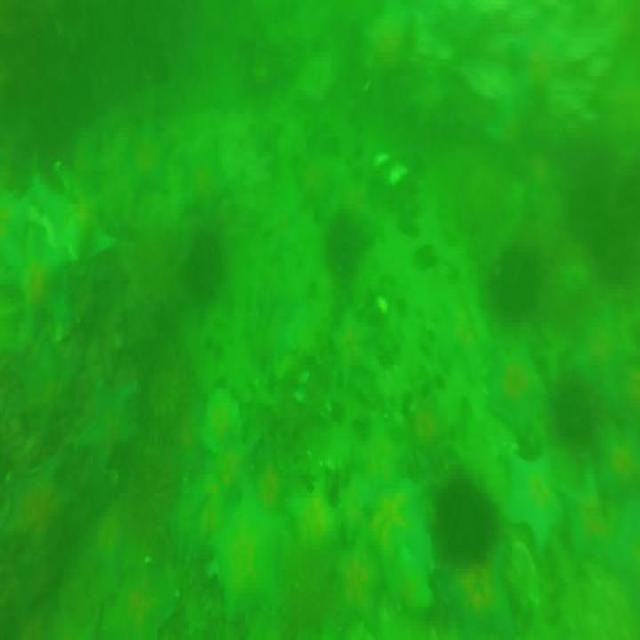echinus: (209, 485, 292, 631), (34, 148, 108, 280), (2, 214, 68, 352), (359, 466, 431, 585), (66, 368, 140, 479), (501, 444, 569, 559), (4, 455, 74, 550), (435, 480, 503, 564), (487, 336, 548, 429), (101, 572, 178, 640), (569, 474, 612, 582), (558, 378, 606, 452), (183, 226, 224, 299), (494, 250, 539, 311), (322, 218, 362, 275)
